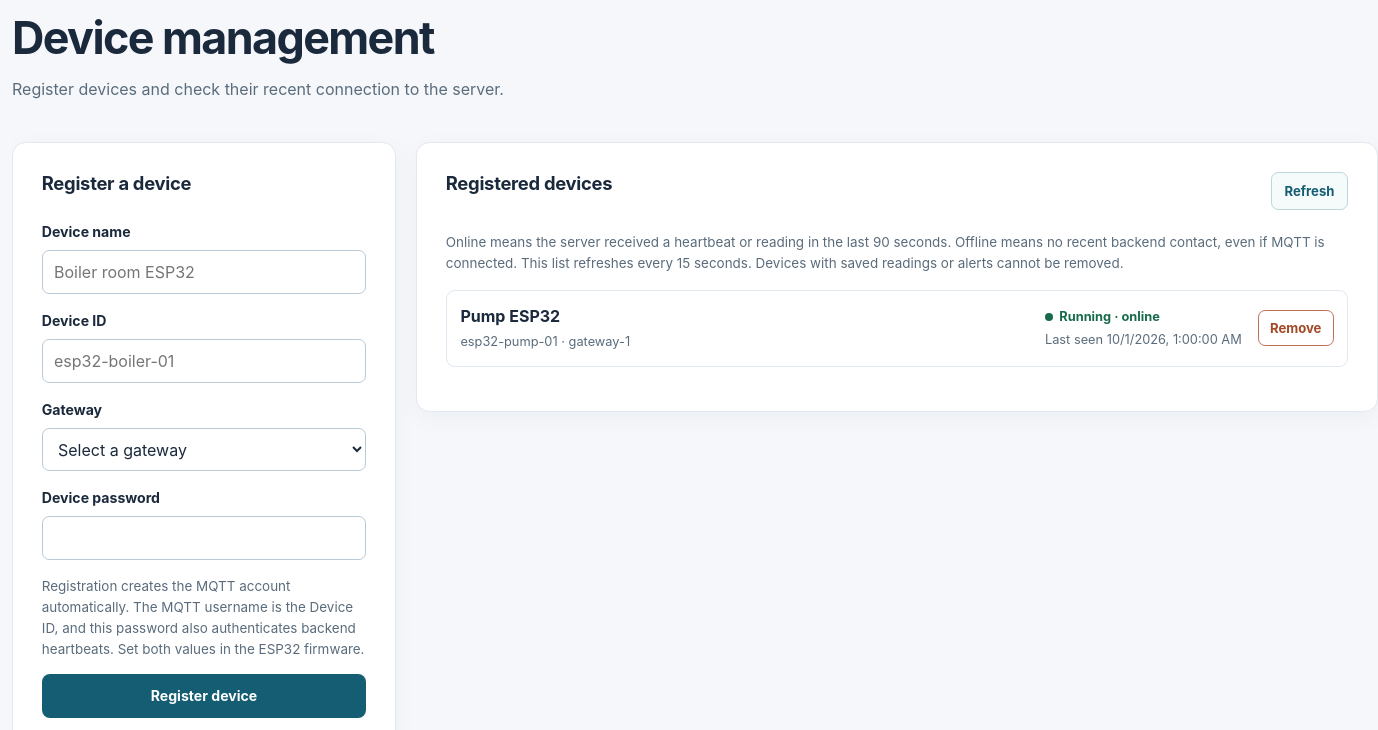
Test: device management › registers a device and shows persisted presence
The width and height of the screenshot is (1378, 730).
Expected: the text "Running · online" is shown, top-left (1045, 307), bottom-right (1160, 326)
In the field labelled "Device name": [204, 272] box top-left (42, 250), bottom-right (366, 294), type "New ESP32"
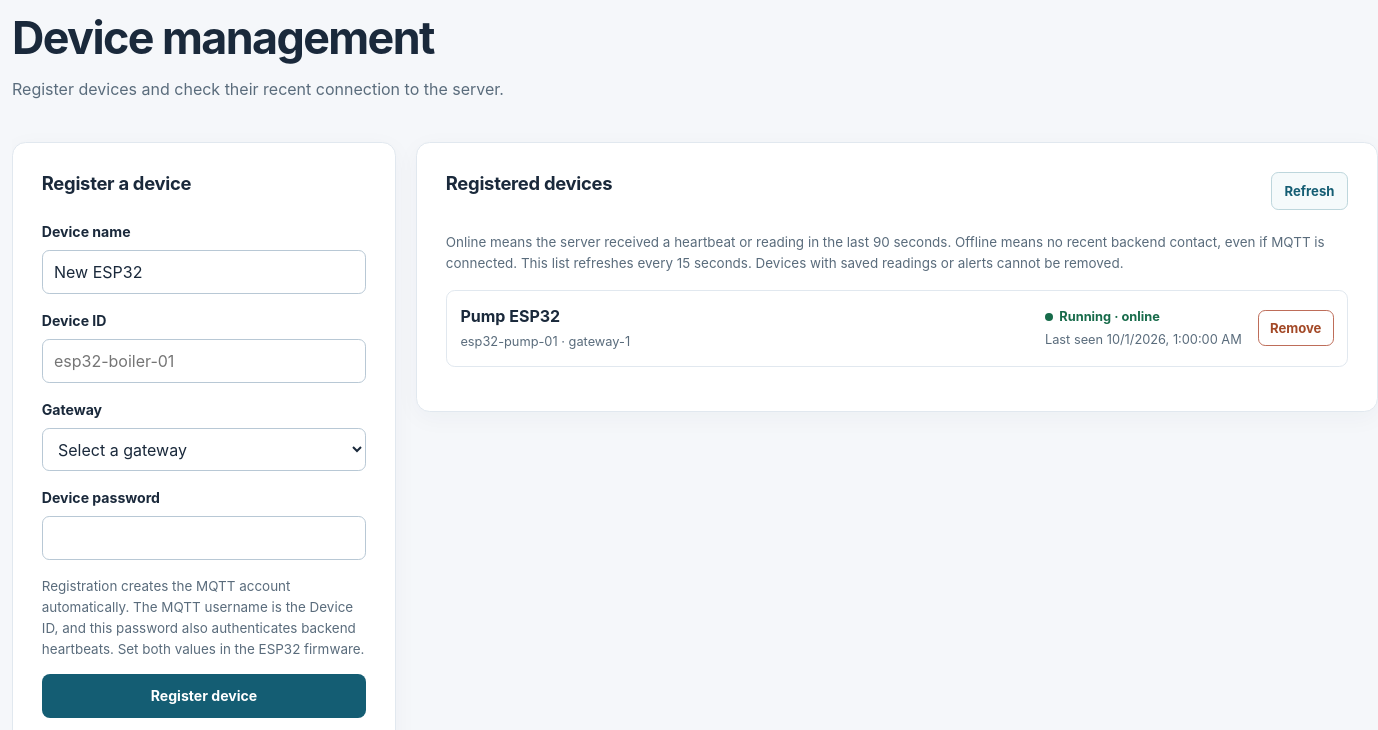
In the field labelled "Device ID": [204, 361] box top-left (42, 339), bottom-right (366, 384), type "esp32-new-01"
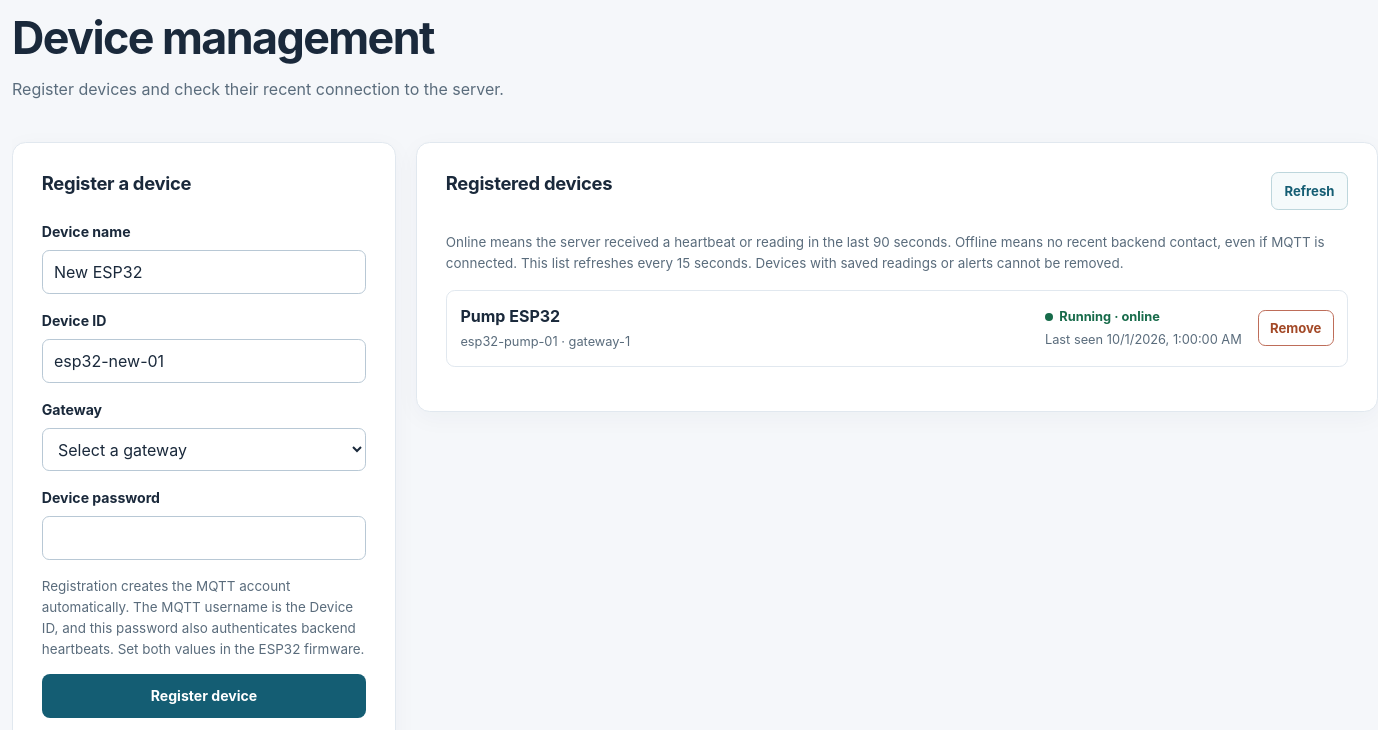
Select "Lab (gateway-1)" in the dropdown labelled "Gateway": [204, 450] box top-left (42, 428), bottom-right (366, 471)
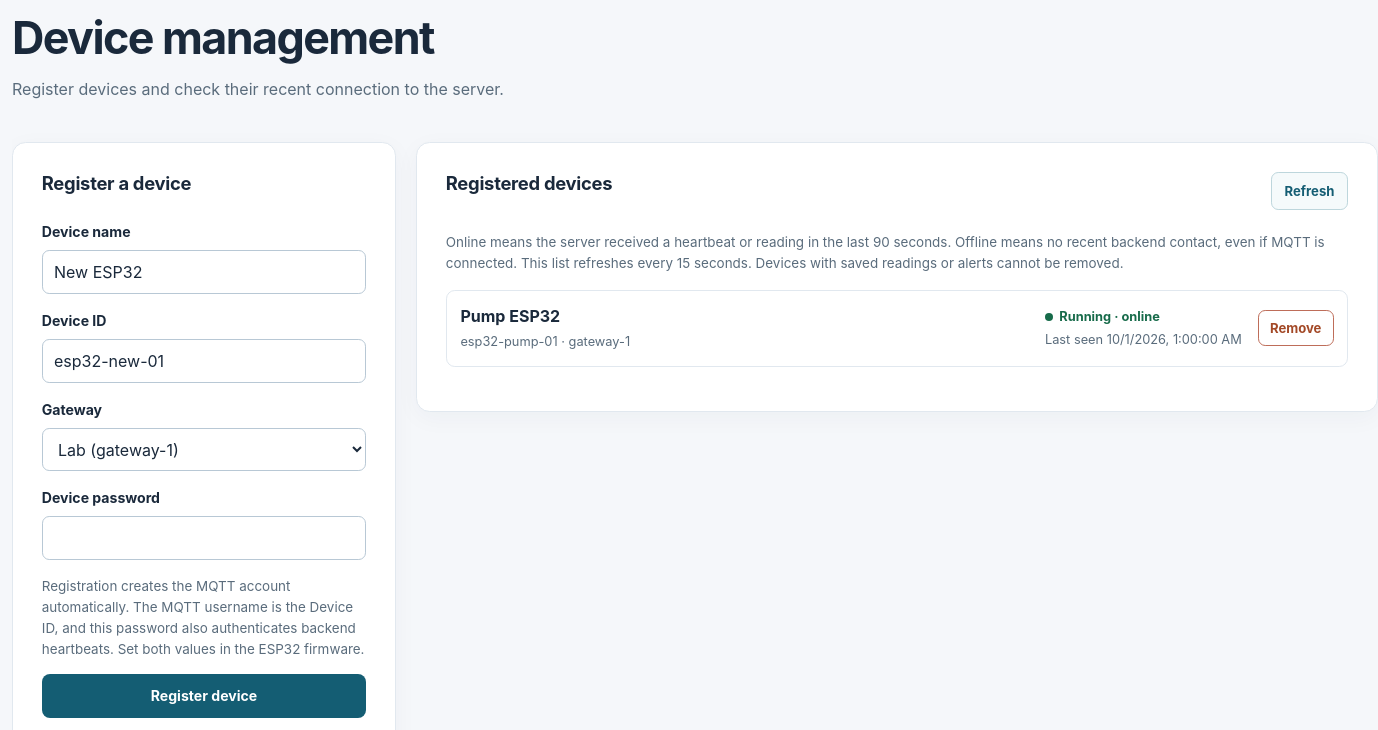
In the password field labelled "Device password": [204, 538] box top-left (42, 516), bottom-right (366, 560), type "long-secret-123"
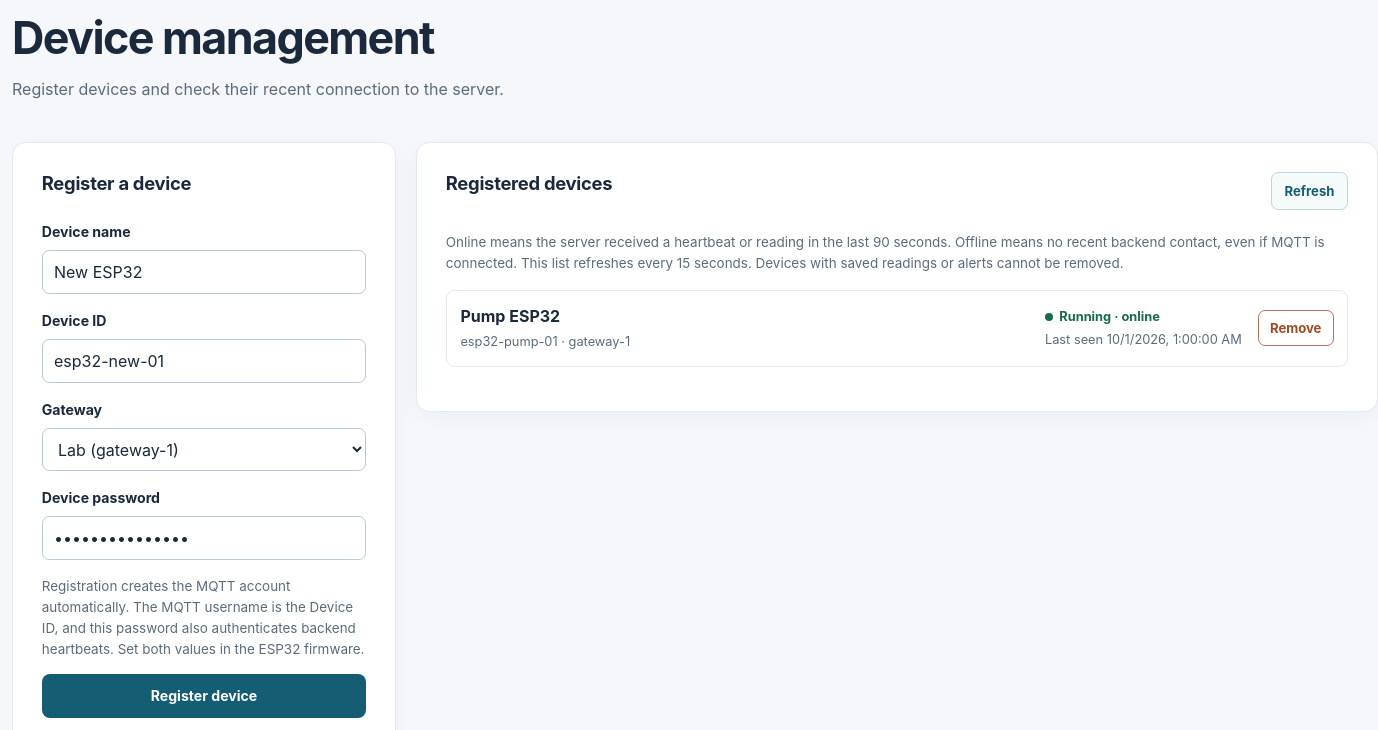
Click the button "Register device": [204, 696] box top-left (42, 674), bottom-right (366, 718)
(page scrolled)
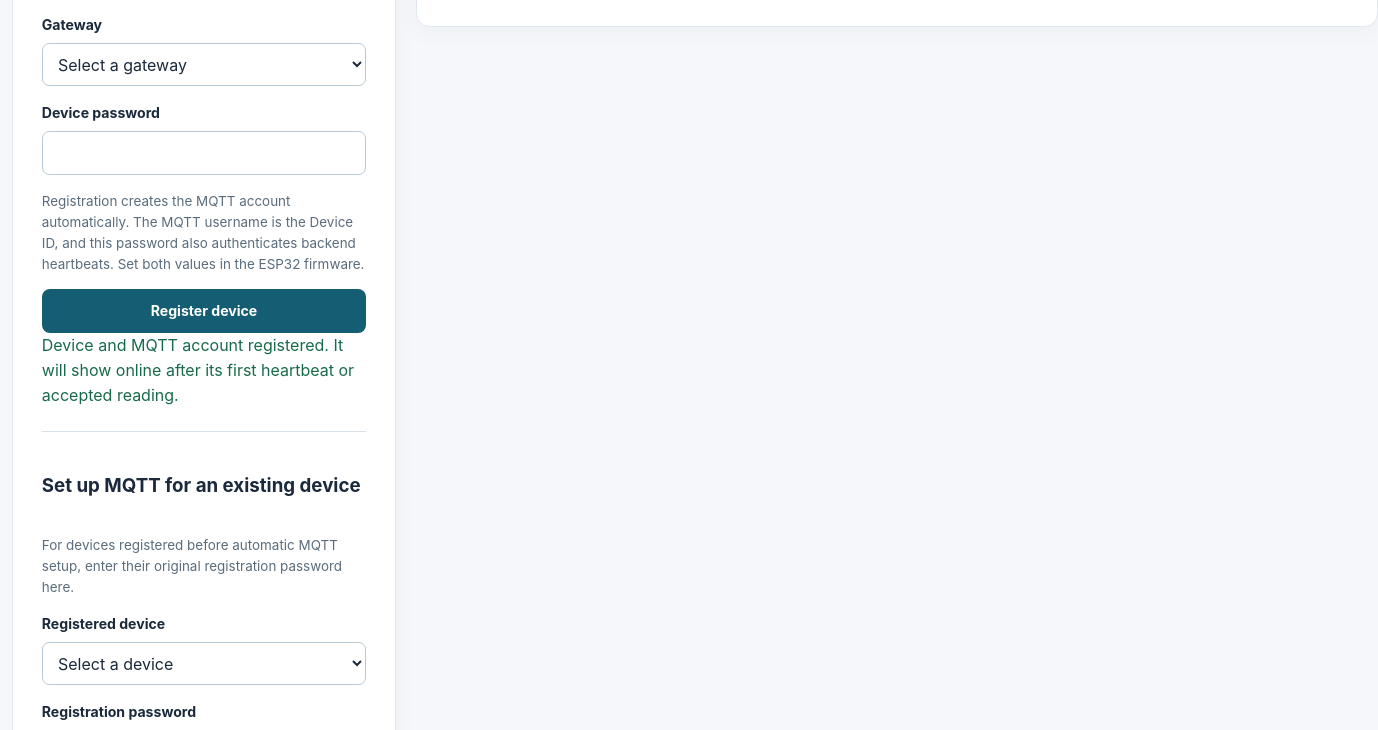
Expected: the text "Device and MQTT account registered" is shown, top-left (42, 335), bottom-right (354, 405)
